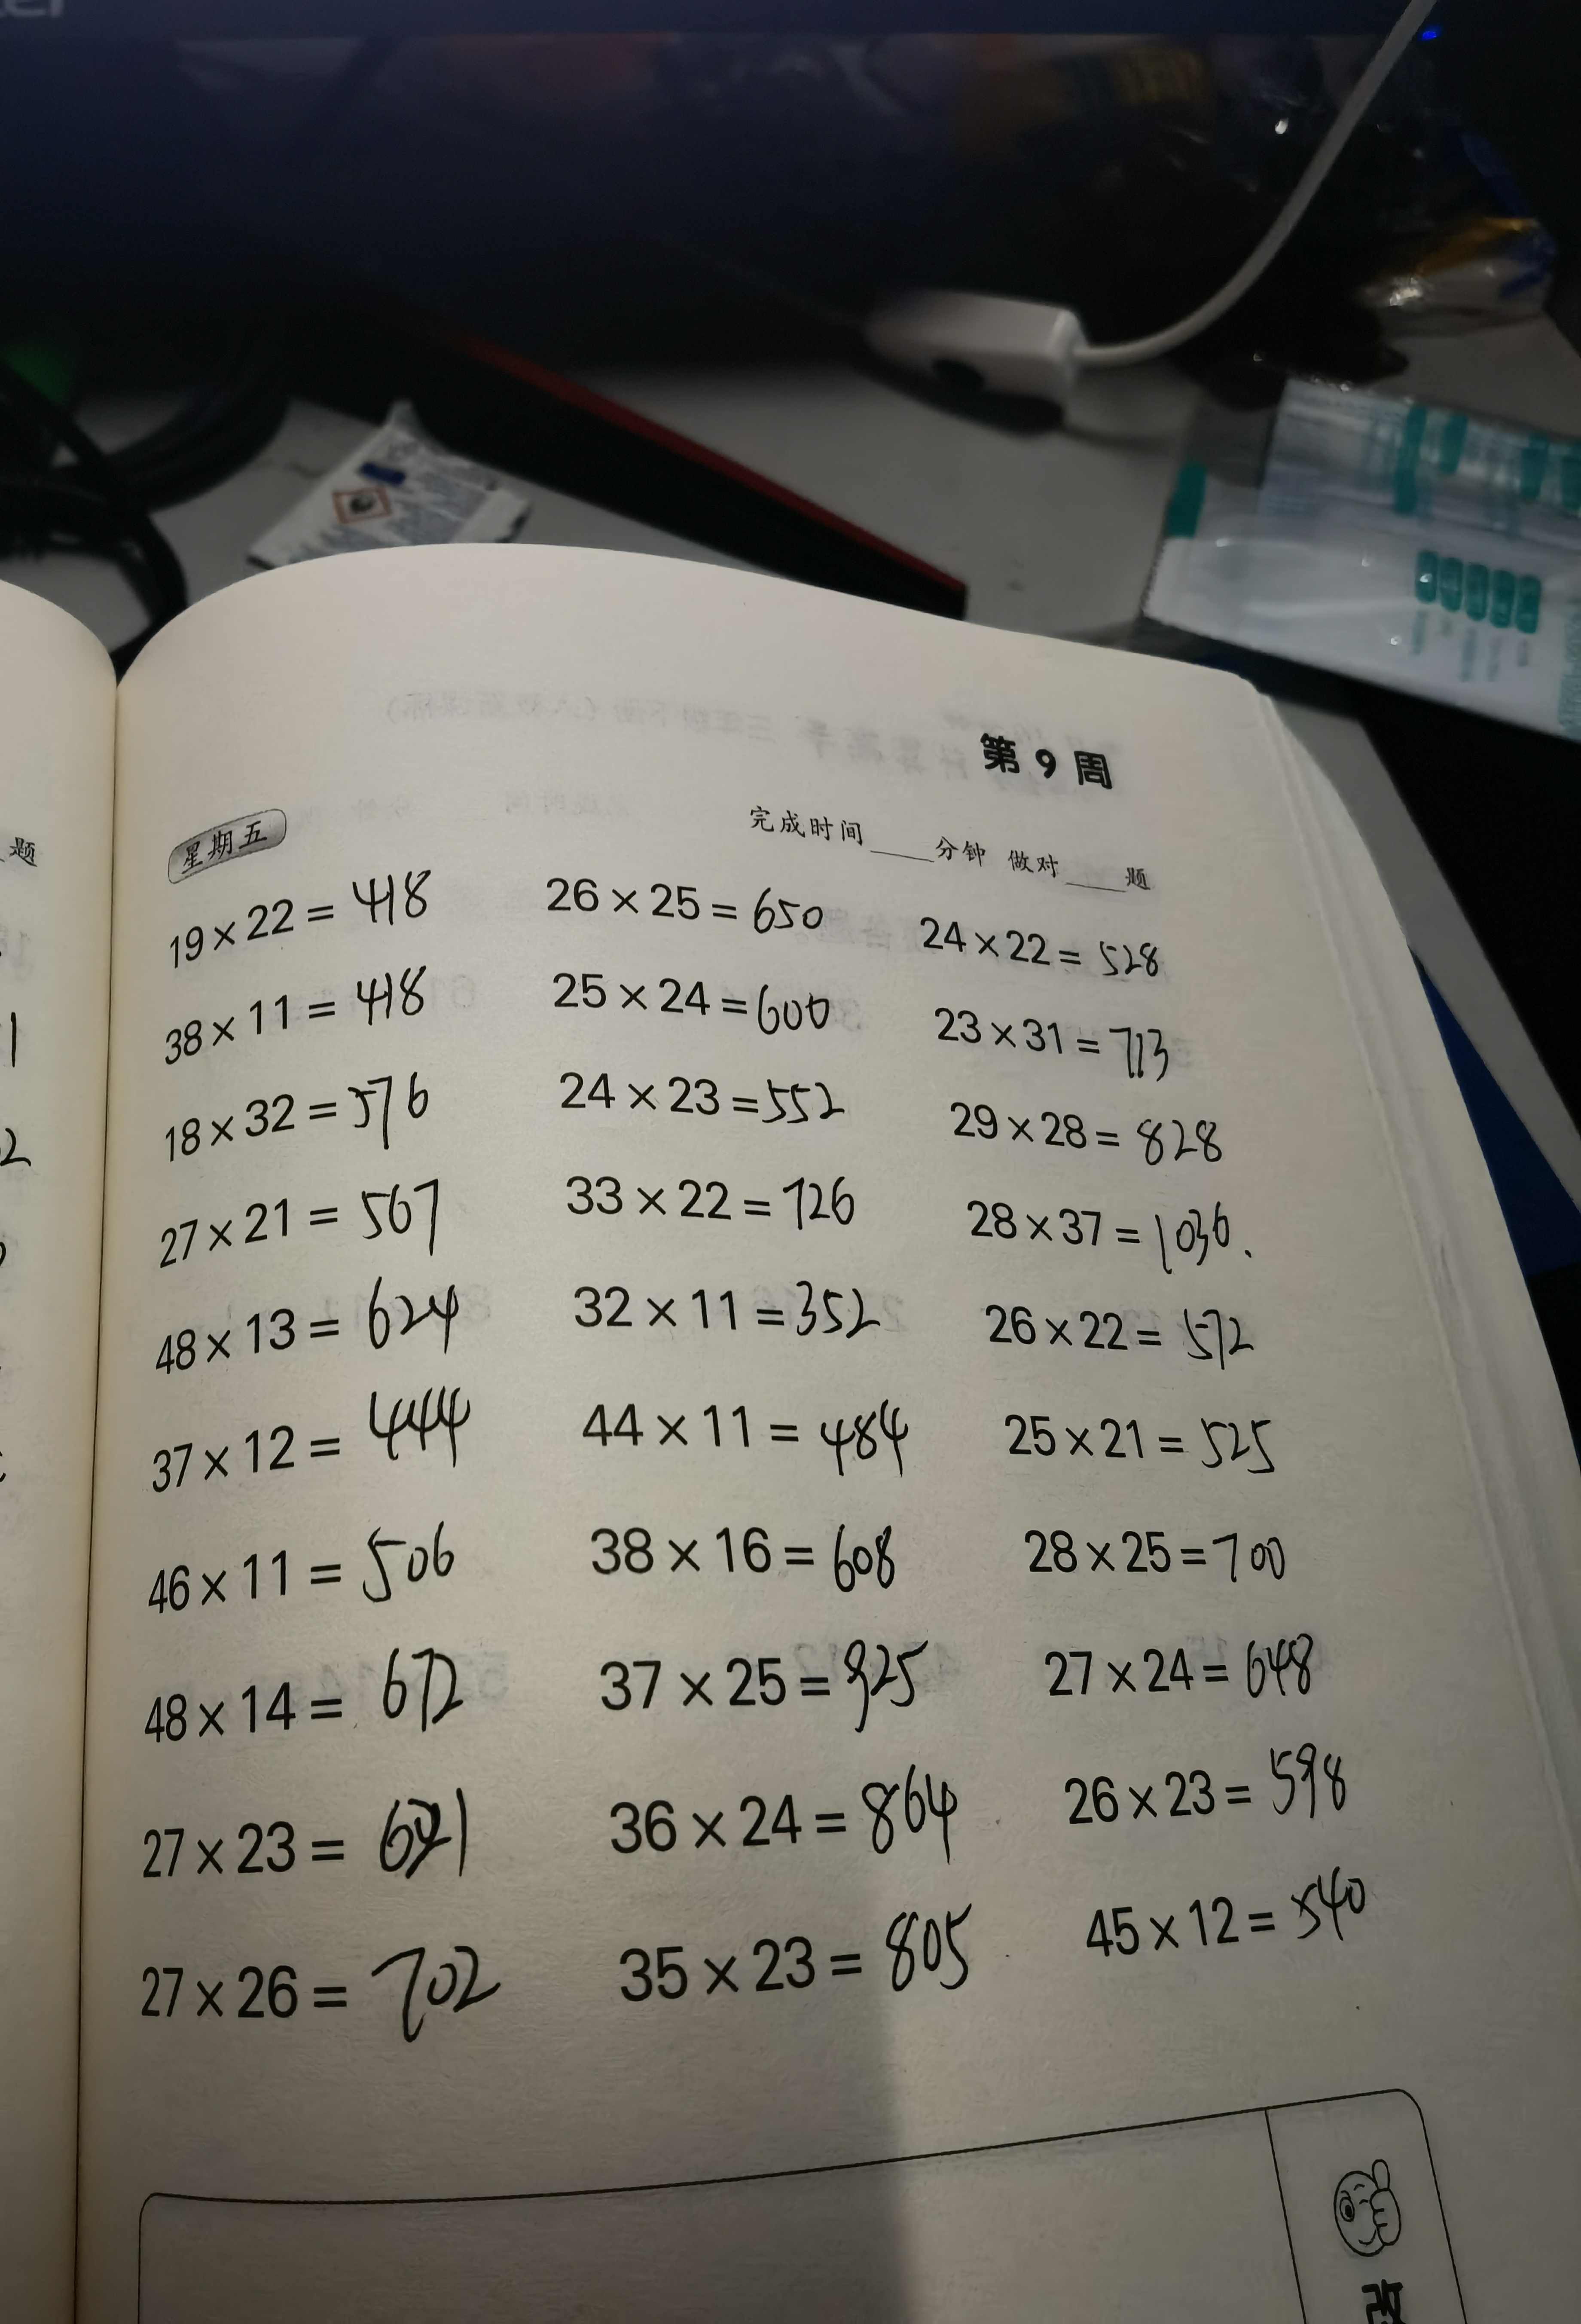equation: (616, 1904, 1027, 2026), (609, 1765, 1015, 1879), (101, 1939, 508, 2047), (139, 1503, 483, 1629), (132, 1389, 498, 1498), (568, 1625, 937, 1733), (113, 1786, 501, 1885), (1064, 1860, 1383, 1980), (528, 829, 838, 944), (995, 1378, 1300, 1495), (136, 963, 498, 1061), (556, 1385, 923, 1481), (132, 1646, 491, 1743), (132, 858, 473, 955), (902, 884, 1226, 983), (554, 1265, 903, 1357), (150, 1278, 503, 1368), (937, 1073, 1237, 1179), (143, 1068, 498, 1156), (1039, 1731, 1371, 1825), (1020, 1611, 1334, 1708), (559, 1161, 886, 1249), (566, 1516, 923, 1593), (533, 958, 840, 1048), (134, 1173, 476, 1249), (905, 993, 1205, 1078), (967, 1285, 1293, 1362), (999, 1526, 1346, 1592), (939, 1195, 1251, 1267), (545, 1062, 854, 1131)
